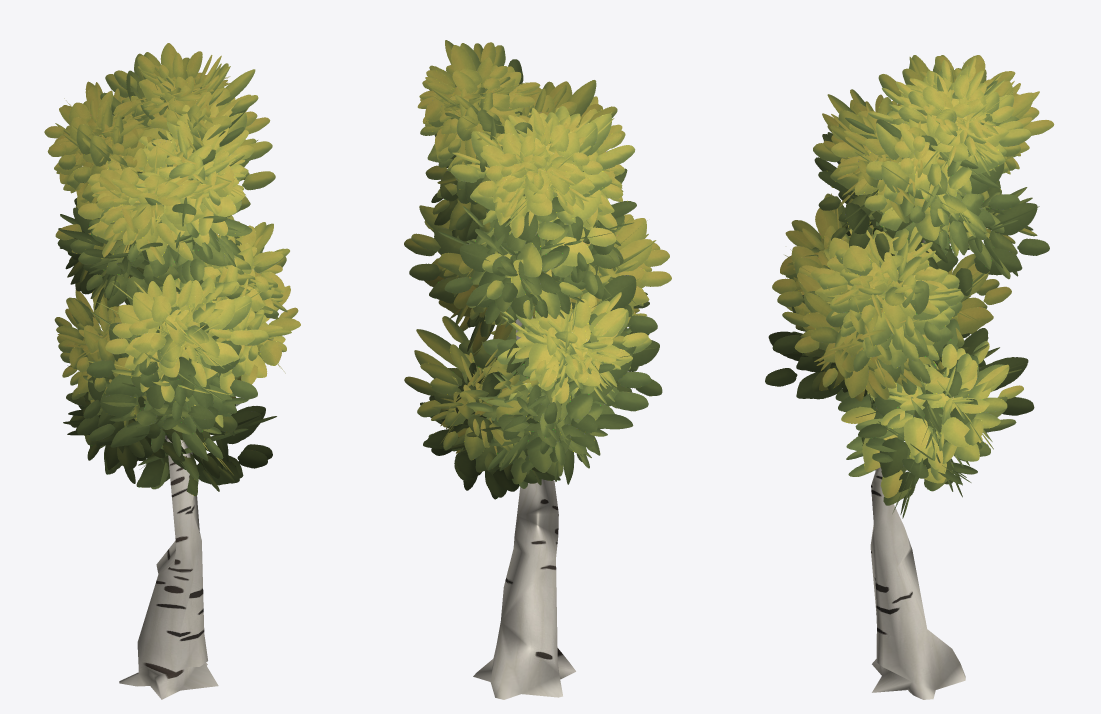
File: tree_birch_far.glb
3 renders of one model, left to right at view 1: azimuth 30°, elevation 25°; view 2: azimuth 150°, elevation 25°; view 3: azimuth 270°, elevation 25°, orthographic. The views are drawn at different scales.
Visible parts, largest first — view 1: Canopy, tree_birch_far; view 2: Canopy, tree_birch_far; view 3: Canopy, tree_birch_far.
Boxes of the visible parts, x1=… form: Canopy: x1=44, y1=43, x2=300, y2=496; tree_birch_far: x1=119, y1=435, x2=218, y2=699; Canopy: x1=404, y1=40, x2=671, y2=499; tree_birch_far: x1=473, y1=316, x2=575, y2=699; Canopy: x1=765, y1=55, x2=1054, y2=518; tree_birch_far: x1=870, y1=239, x2=965, y2=699.
Bounding box in the file's own units: 1.09 × 2.3 × 1.15.
2 materials, 2 textured.
